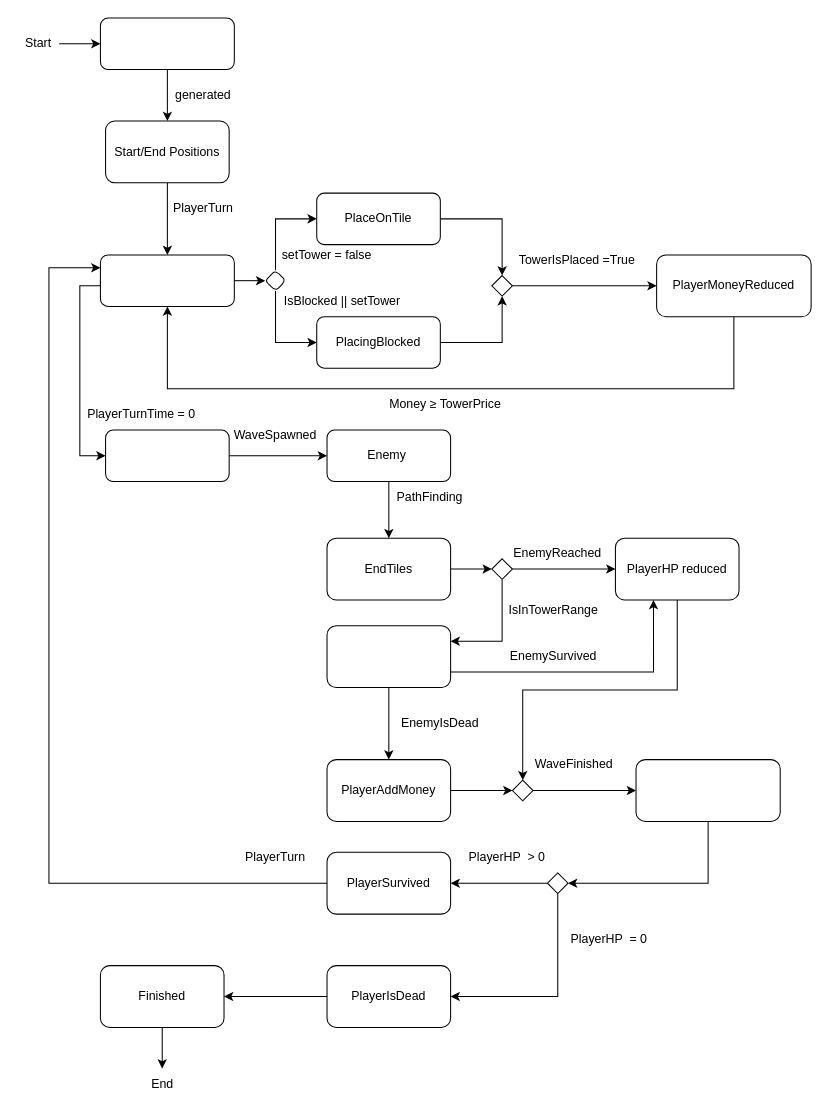
This 829x1118 diagram has some shape labels left out. The shapes that lost their labels are listed below. From the top down, each one's centre as x and y in pixels, then its label:
At [166,43]: "GameBoard initialised".
At [166,280]: "TowerPlacing".
At [167,455]: "EnemyTurn".
At [388,656]: "EnemyHpReduced".
At [707,790]: "WavedFinishedCheck".
